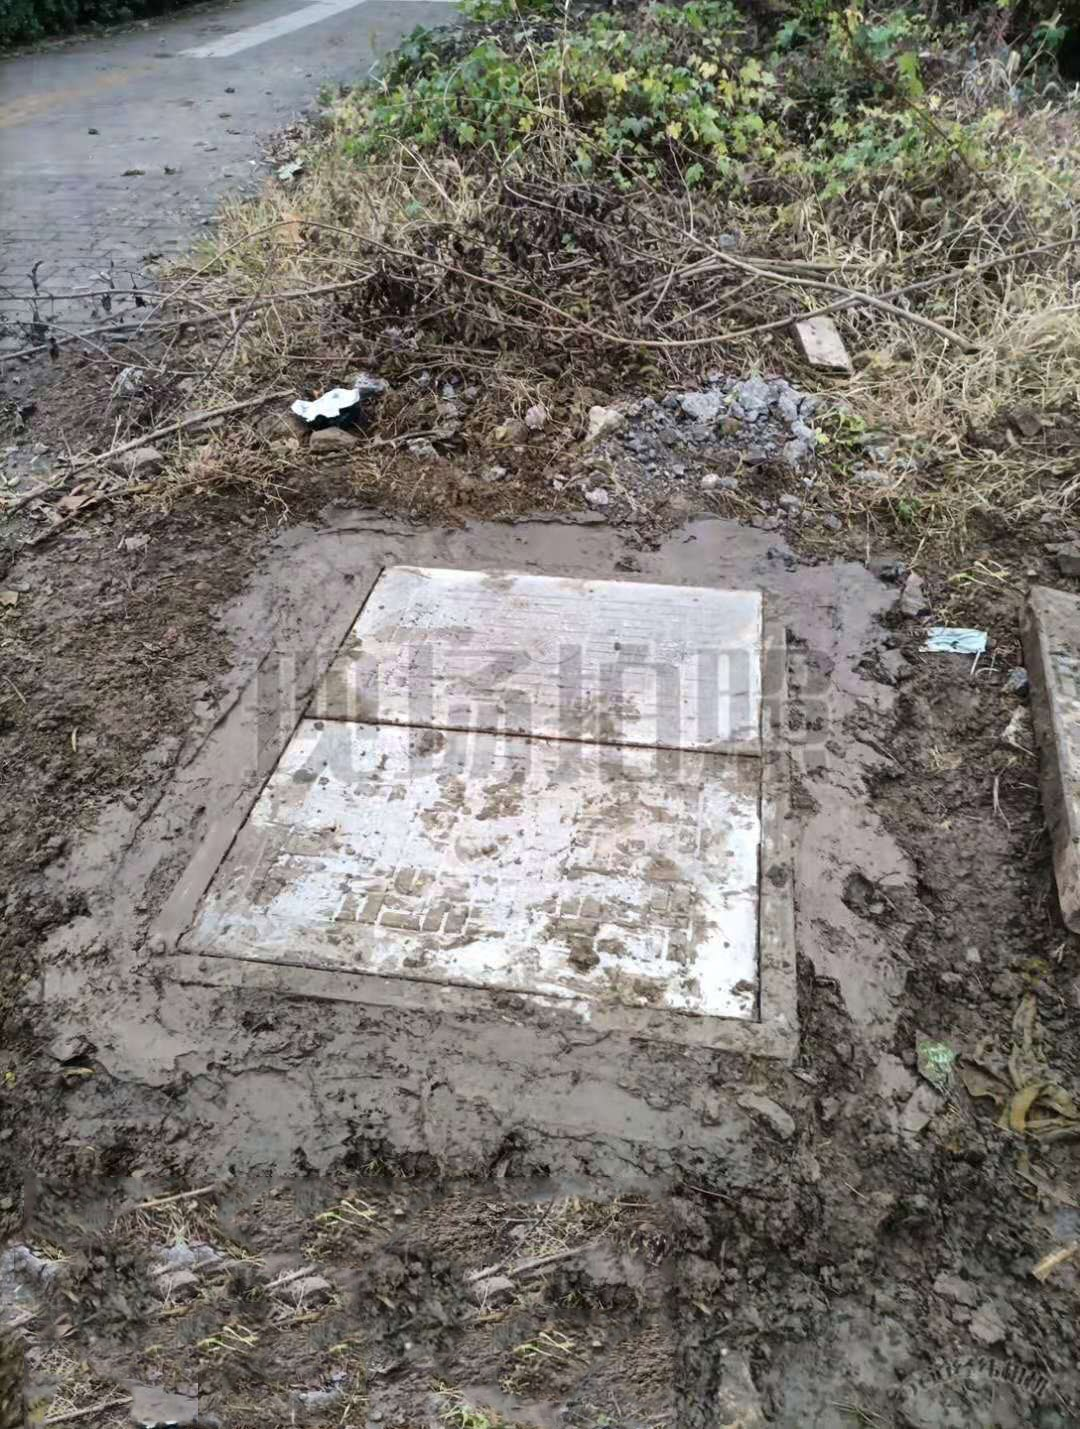good: (141, 548, 800, 1059)
